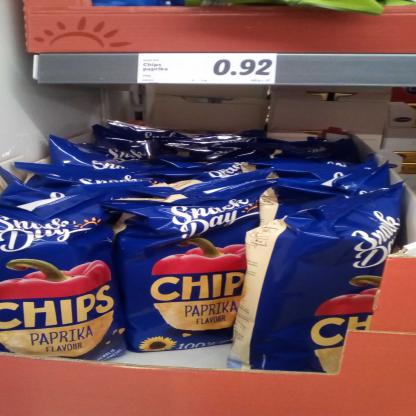prtg: (138, 54, 278, 84)
